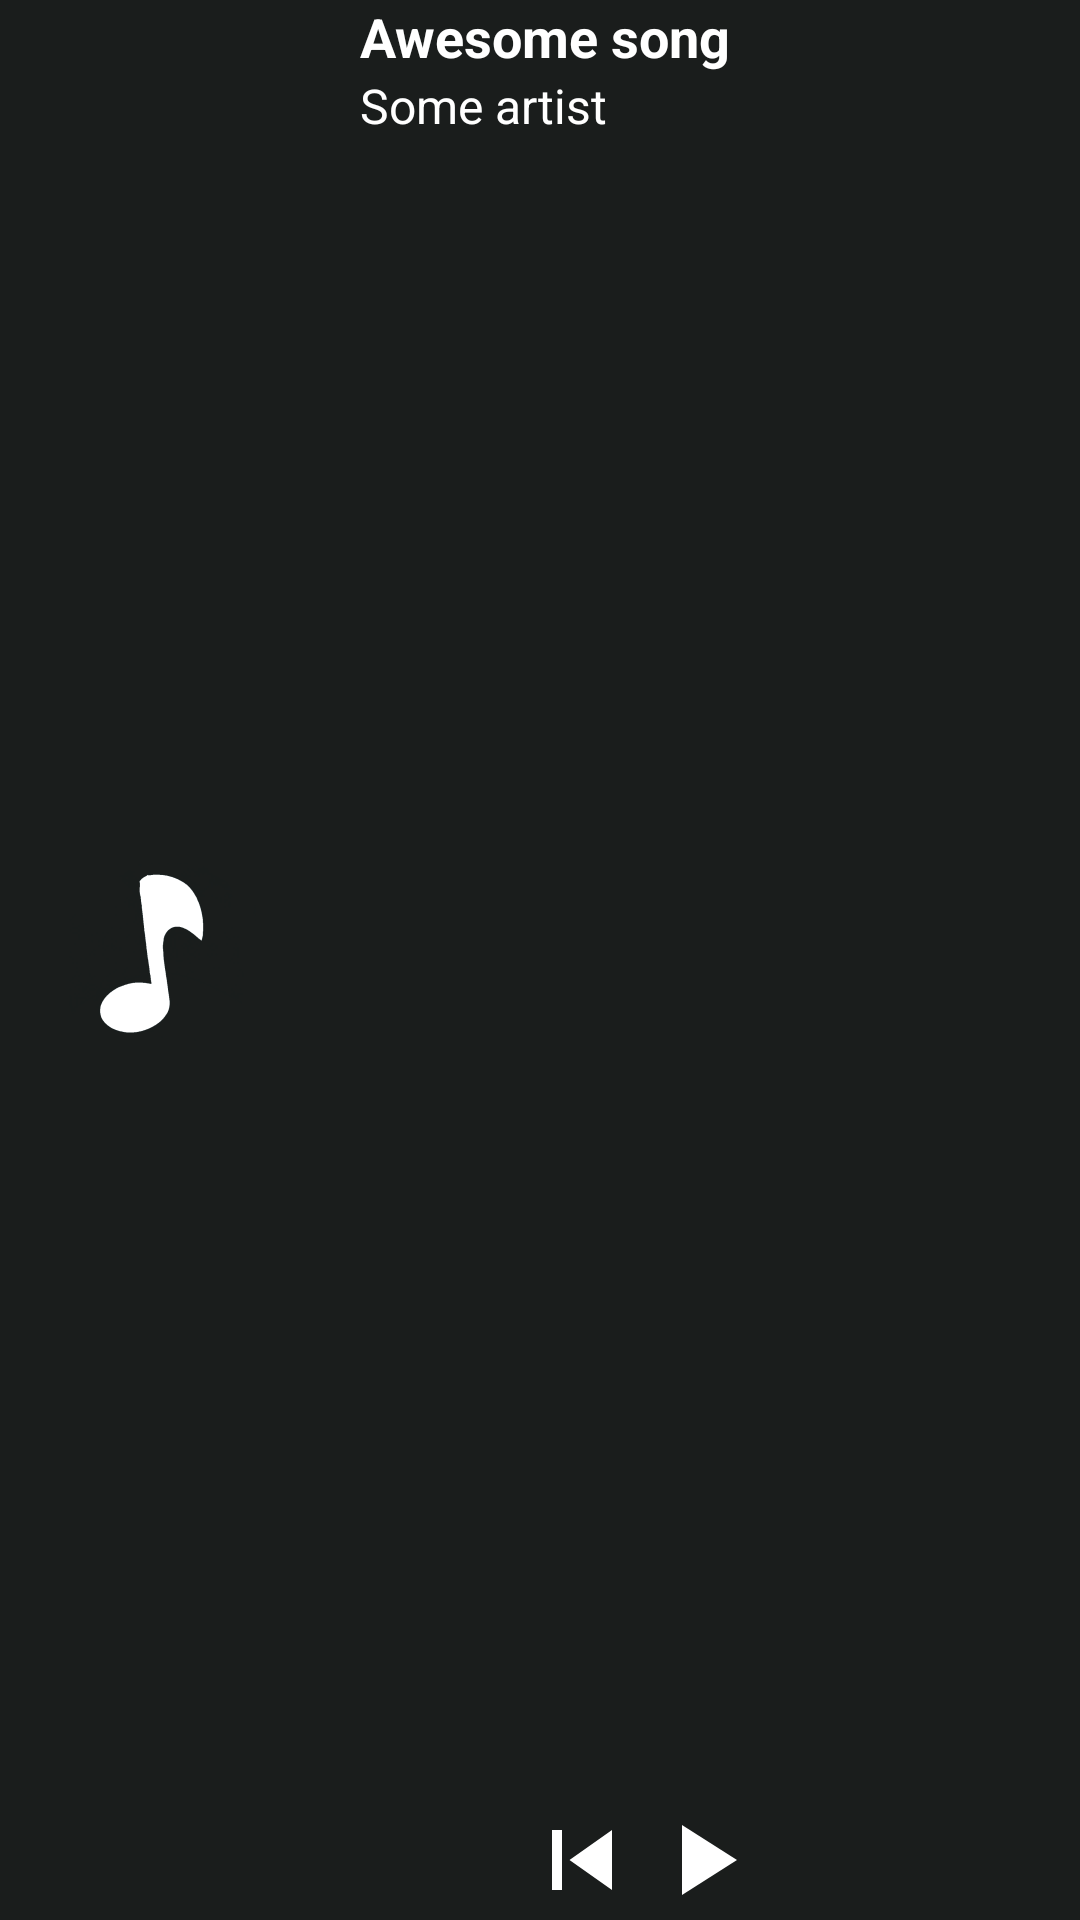

Where to tap for icons on this 1080×1920 app screen, as (x=x, y=y):
play arrow: (x=709, y=1860)
skip previous: (x=582, y=1860)
